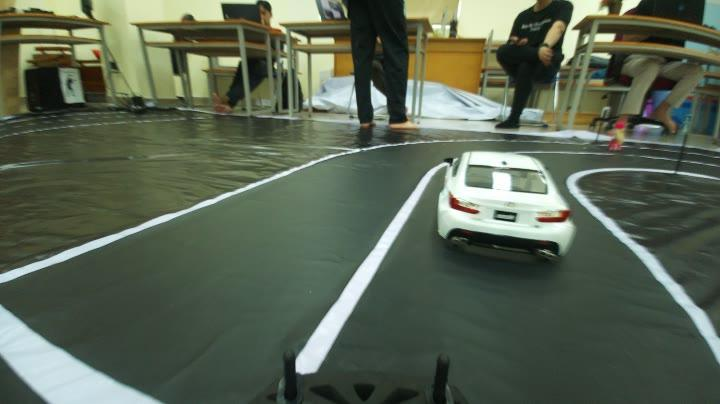car: (430, 141, 594, 260)
